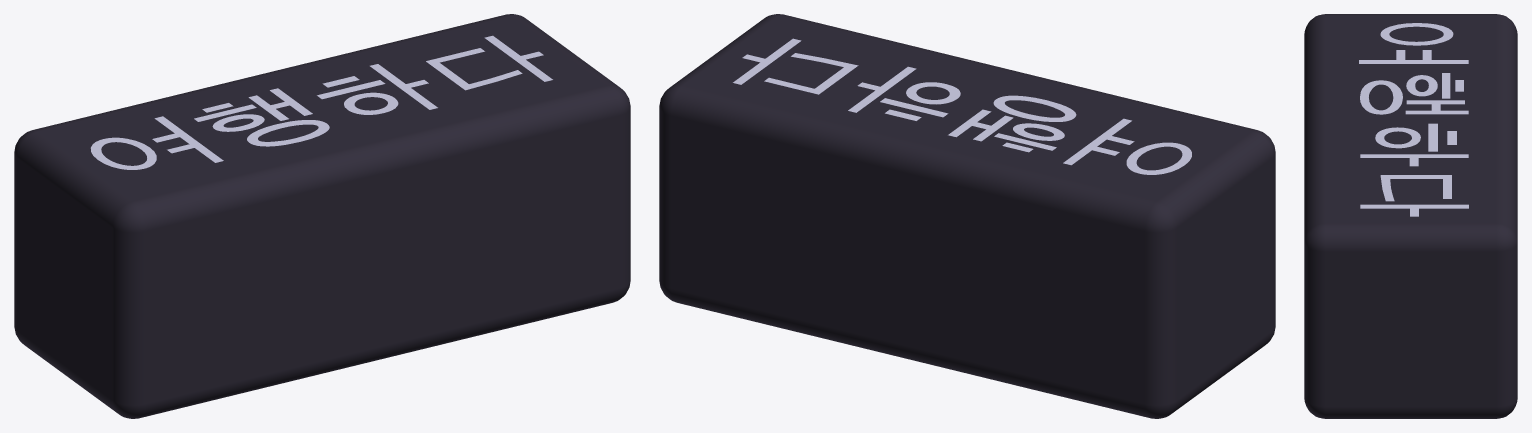
File: travel.glb
The picture shows the model from 3 angles, left to right: view 1: azimuth 30°, elevation 25°; view 2: azimuth 150°, elevation 25°; view 3: azimuth 270°, elevation 25°; orthographic projection. The views are drawn at different scales.
Parts seen in each view (by area): view 1: Cut, Extrude; view 2: Cut, Extrude; view 3: Cut, Extrude.
Boxes of the visible parts, x1,y1,x2,y2 form: Cut: (14, 14, 630, 418); Extrude: (90, 35, 552, 169); Cut: (659, 14, 1275, 418); Extrude: (733, 38, 1191, 174); Cut: (1304, 14, 1517, 418); Extrude: (1359, 23, 1468, 216).
Size of the model in its own units: 5 by 2 by 2.
